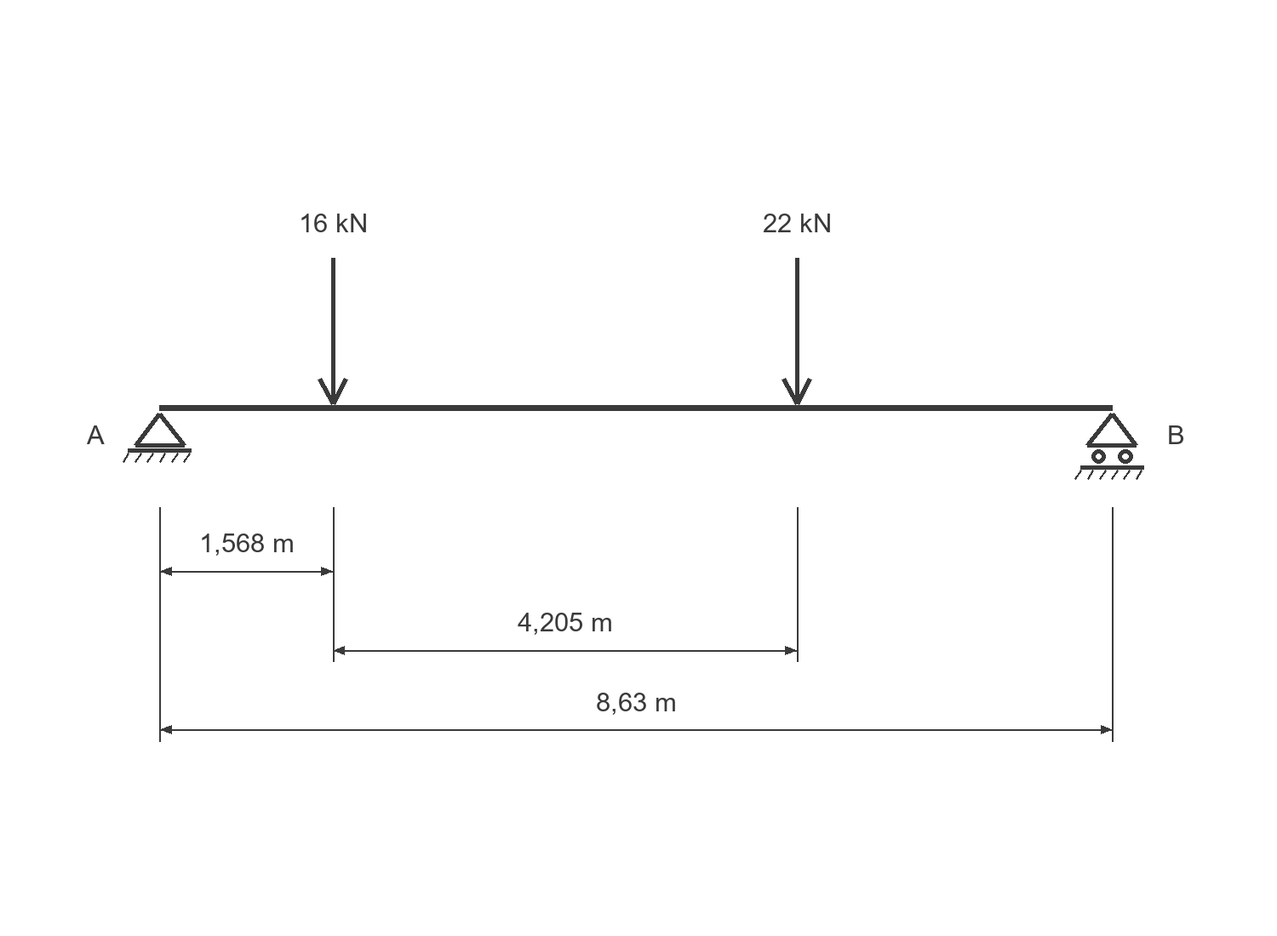pin_support: (123, 413, 192, 463)
point_load: (318, 258, 348, 405), (782, 258, 812, 405)
roller_support: (1074, 413, 1144, 480)
